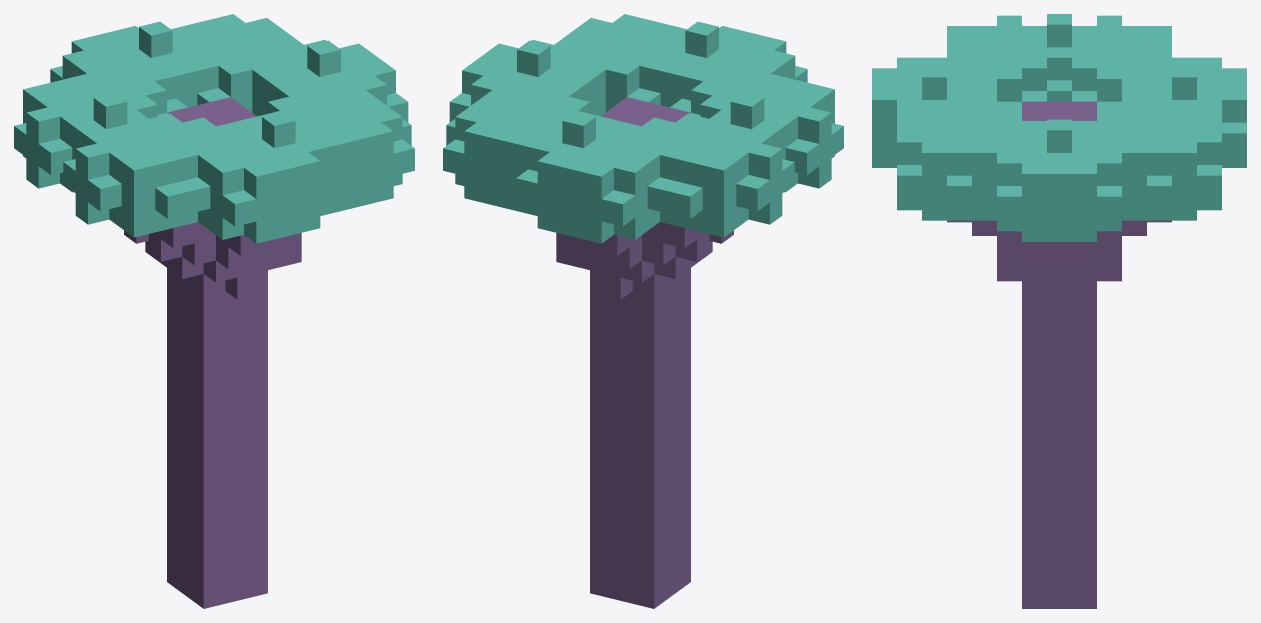
Rendered from alien-biosphere-crown-tree-a47f7e32__22681.glb.
3 renders of one model, left to right at view 1: azimuth 30°, elevation 25°; view 2: azimuth 150°, elevation 25°; view 3: azimuth 270°, elevation 25°, orthographic.
Parts seen in each view (by area): view 1: crown-tree; view 2: crown-tree; view 3: crown-tree.
Boxes of the visible parts, <box> form: crown-tree: <box>14,14,414,608</box>; crown-tree: <box>443,14,843,608</box>; crown-tree: <box>872,14,1246,608</box>.
Size of the model in its own units: 3 by 4.6 by 3.
